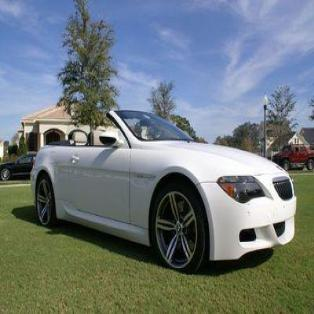Auto: (30, 106, 297, 275)
